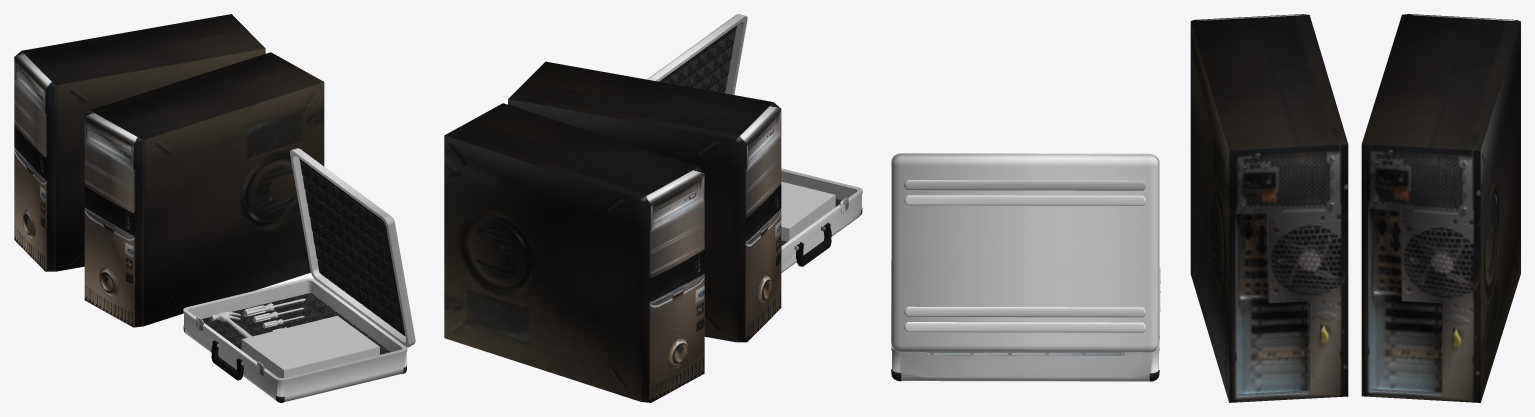
Rendered from valigetta.fbx.
3 views of the same model, side by side, from view 1: azimuth 30°, elevation 25°; view 2: azimuth 150°, elevation 25°; view 3: azimuth 270°, elevation 25° (orthographic). The views are drawn at different scales.
Parts seen in each view (by area): view 1: Assistenza Tecnica Pc Dx, Assistenza Tecnica Pc Sx, Assistenza Tecnica Valigetta Alta, Assistenza Tecnica Valigetta Bassa, Assistenza Tecnica Valigetta Bassa Scatola, Assistenza Tecnica Valigetta Martello; view 2: Assistenza Tecnica Pc Sx, Assistenza Tecnica Pc Dx, Assistenza Tecnica Valigetta Alta, Assistenza Tecnica Valigetta Bassa, Assistenza Tecnica Valigetta Bassa Scatola; view 3: Assistenza Tecnica Pc Sx, Assistenza Tecnica Pc Dx, Assistenza Tecnica Valigetta Alta, Assistenza Tecnica Valigetta Bassa.
Boxes of the visible parts, box(x1,y1,x2,y2) form: Assistenza Tecnica Pc Dx: box(84, 52, 324, 327); Assistenza Tecnica Pc Sx: box(14, 14, 265, 271); Assistenza Tecnica Valigetta Alta: box(290, 148, 415, 347); Assistenza Tecnica Valigetta Bassa: box(183, 278, 407, 402); Assistenza Tecnica Valigetta Bassa Scatola: box(241, 315, 379, 378); Assistenza Tecnica Valigetta Martello: box(210, 311, 251, 337); Assistenza Tecnica Pc Sx: box(444, 103, 704, 402); Assistenza Tecnica Pc Dx: box(508, 61, 781, 342); Assistenza Tecnica Valigetta Alta: box(647, 14, 747, 94); Assistenza Tecnica Valigetta Bassa: box(781, 168, 862, 272); Assistenza Tecnica Valigetta Bassa Scatola: box(781, 181, 835, 241); Assistenza Tecnica Pc Sx: box(1361, 14, 1520, 402); Assistenza Tecnica Pc Dx: box(1190, 14, 1348, 402); Assistenza Tecnica Valigetta Alta: box(891, 153, 1159, 352); Assistenza Tecnica Valigetta Bassa: box(891, 267, 1160, 381).
Size of the model in its own units: 43.08 by 38.37 by 81.53.
